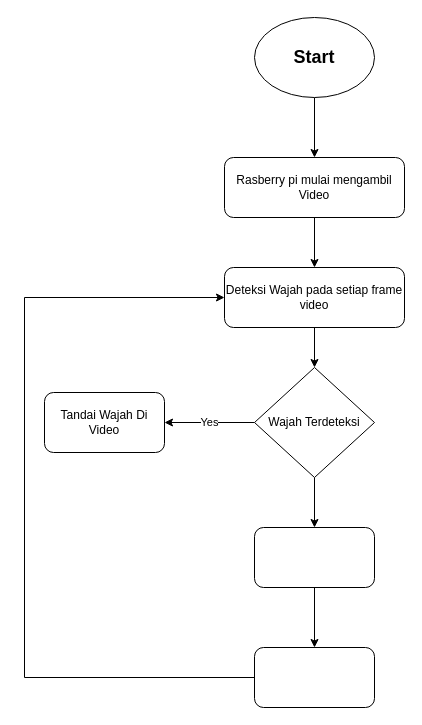
Some shapes in this 422 by 725 pixel diagram are drawn without their labels. Here are the shapes that lost their labels. From the top down, the box of each, then its label:
(254, 526, 374, 588): Stream Video di web server via internet
(254, 646, 374, 708): Akses via web browser dari mana saja
